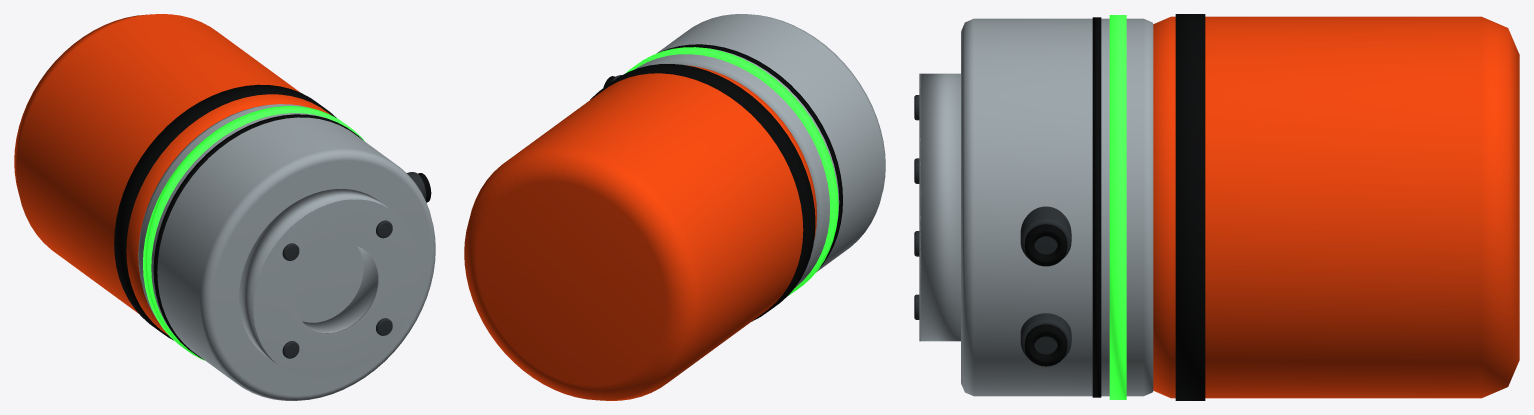
3 renders of one model, left to right at view 1: azimuth 30°, elevation 25°; view 2: azimuth 150°, elevation 25°; view 3: azimuth 270°, elevation 25°, orthographic. The views are drawn at different scales.
Parts seen in each view (by area): view 1: part2-node, part0-node, part6-node, part5-node, part1-node, part3-node, part4-node; view 2: part0-node, part2-node, part1-node, part3-node, part4-node; view 3: part0-node, part2-node, part1-node, part5-node, part3-node, part4-node, part13-node, part14-node, part12-node, part11-node, part6-node.
Boxes of the visible parts, box(x1,y1,x2,y2) form: part2-node: box(138, 104, 435, 400); part0-node: box(14, 14, 330, 335); part6-node: box(253, 199, 420, 378); part5-node: box(239, 189, 390, 363); part1-node: box(114, 84, 336, 340); part3-node: box(143, 106, 365, 360); part4-node: box(153, 114, 363, 359); part0-node: box(464, 65, 816, 400); part2-node: box(635, 14, 885, 287); part1-node: box(590, 64, 815, 321); part3-node: box(625, 47, 838, 295); part4-node: box(659, 44, 842, 267); part0-node: box(1153, 16, 1519, 398); part2-node: box(961, 18, 1153, 396); part1-node: box(1175, 14, 1205, 400); part5-node: box(920, 73, 960, 341); part3-node: box(1109, 15, 1126, 399); part4-node: box(1092, 17, 1101, 397); part13-node: box(1020, 206, 1071, 258); part14-node: box(1024, 224, 1067, 266); part12-node: box(1024, 324, 1067, 366); part11-node: box(1020, 313, 1071, 359); part6-node: box(919, 73, 921, 341).
Size of the model in its own units: 0.0956 by 0.1425 by 0.0912.
